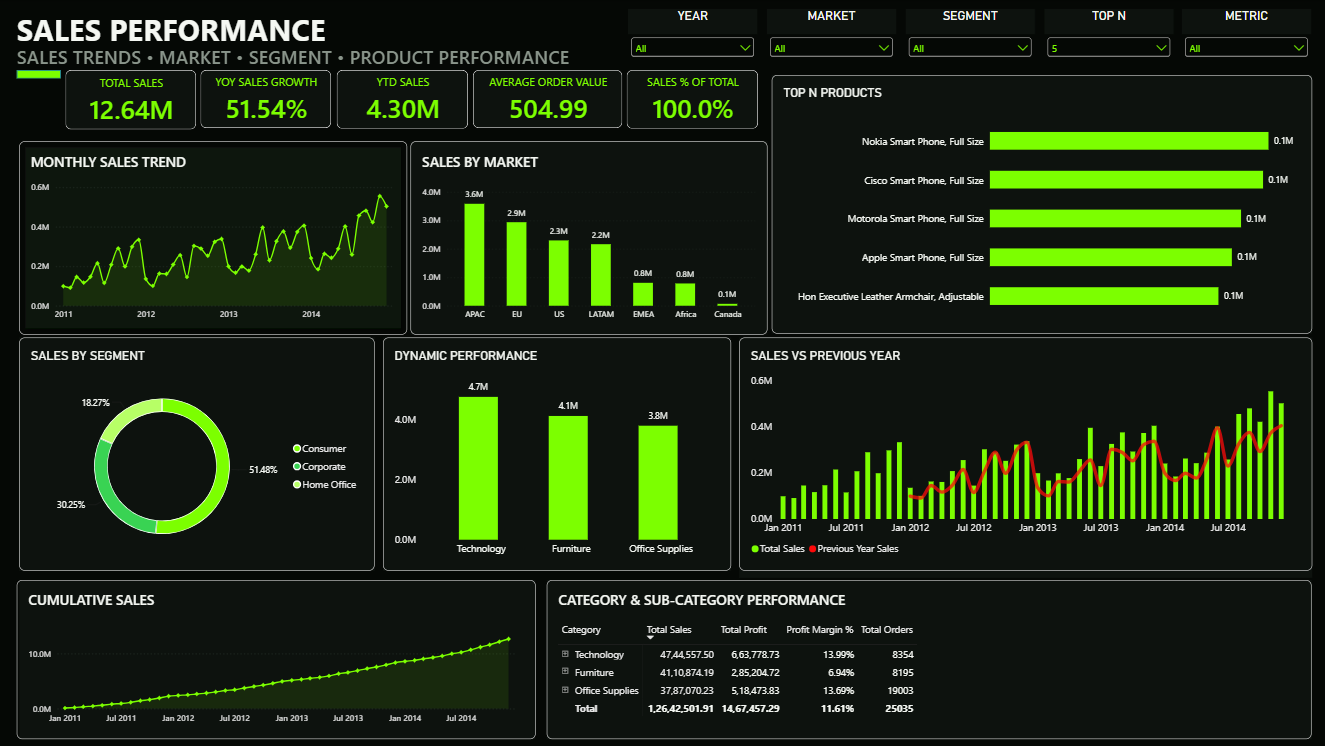

Layout of this report page (visuals, bound fields, positions):
{"tool":"powerbi","page":{"name":"02 Sales Performance","canvas":[1920,1080],"ordinal":1},"visuals":[{"type":"shape","box":[794.5,839.8,1107.4,230.5],"z":0},{"type":"shape","box":[1072.4,487.8,829.5,347.9],"z":1000},{"type":"shape","box":[557.8,487.8,504.3,337.6],"z":2000},{"type":"shape","box":[1119.7,109.1,782.2,374.6],"z":3000},{"type":"textbox","box":[26.8,63.8,1130,49.4],"z":4000},{"type":"shape","box":[26.8,100.9,63.8,12.3],"z":5000},{"type":"slicer","title":"YEAR","fields":{"Values":["DateTable.Year"]},"box":[911.8,12.3,187.3,100.9],"z":6000},{"type":"slicer","title":"MARKET","fields":{"Values":["Orders.Market"]},"box":[1112.5,12.3,187.3,100.9],"z":7000},{"type":"cardVisual","fields":{"Data":["_Measures.Total Sales"]},"box":[97.4,100.9,189.4,86.4],"z":8000},{"type":"cardVisual","fields":{"Data":["_Measures.YoY Sales Growth %"]},"box":[293.7,100.9,189.4,84.4],"z":9000},{"type":"cardVisual","fields":{"Data":["_Measures.YTD Sales"]},"box":[489.9,100.9,190,85],"z":10000},{"type":"cardVisual","fields":{"Data":["_Measures.Sales % of Total"]},"box":[909.8,100.9,190,85],"z":11000},{"type":"shape","box":[596.9,203.8,516.6,279.9],"z":12000},{"type":"clusteredColumnChart","title":"DYNAMIC PERFORMANCE","fields":{"Category":["Orders.Category"],"Y":["_Measures.Dynamic Metric"]},"box":[557.8,487.8,504.3,337.6],"z":13000},{"type":"clusteredColumnChart","title":"SALES BY MARKET","fields":{"Y":["_Measures.Total Sales"],"Category":["Orders.Market"]},"box":[596.9,203.8,516.6,279.9],"z":14000},{"type":"clusteredBarChart","title":"TOP N PRODUCTS","fields":{"Category":["Orders.Product Name"],"Y":["_Measures.Dynamic Top N Sales"]},"box":[1119.7,109.1,782.2,374.6],"z":15000},{"type":"shape","box":[30.9,487.8,514.6,337.6],"z":16000},{"type":"donutChart","title":"SALES BY SEGMENT","fields":{"Category":["Orders.Segment"],"Y":["_Measures.Total Sales"]},"box":[30.9,487.8,514.6,337.6],"z":17000},{"type":"cardVisual","fields":{"Data":["_Measures.Average Order Value"]},"box":[686.8,100.9,216.1,84.4],"z":18000},{"type":"slicer","title":"TOP N","fields":{"Values":["Top N Selection.Top N Selection"]},"box":[1513.9,12.3,187.3,100.9],"z":19000},{"type":"slicer","title":"SEGMENT","fields":{"Values":["Orders.Segment"]},"box":[1313.2,12.3,187.3,100.9],"z":20000},{"type":"lineClusteredColumnComboChart","title":"SALES VS PREVIOUS YEAR","fields":{"Y":["_Measures.Total Sales"],"Category":["DateTable.Month Start_1"],"Y2":["_Measures.Previous Year Sales"]},"box":[1072.4,487.8,829.5,337.6],"z":21000},{"type":"slicer","title":"METRIC","fields":{"Values":["Metric Selection.Metric"]},"box":[1714.6,12.3,187.3,100.9],"z":22000},{"type":"shape","box":[30.9,203.8,561.9,279.9],"z":23000},{"type":"lineChart","title":"MONTHLY SALES TREND","fields":{"Y":["_Measures.Total Sales"],"Category":["DateTable.Month Start_1"]},"box":[30.9,203.8,561.9,279.9],"z":24000},{"type":"pivotTable","title":"CATEGORY & SUB-CATEGORY PERFORMANCE","fields":{"Values":["_Measures.Total Sales","_Measures.Total Profit","_Measures.Profit Margin %","_Measures.Total Orders"],"Rows":["Orders.Category","Orders.Sub-Category"]},"box":[794.5,839.8,1107.4,230.5],"z":25000},{"type":"shape","box":[30.9,839.8,747.2,230.5],"z":26000},{"type":"lineChart","title":"CUMULATIVE SALES","fields":{"Category":["DateTable.Month Start_1"],"Y":["_Measures.Running Total Sales"]},"box":[26.8,839.8,751.3,230.5],"z":27000},{"type":"textbox","box":[27.1,12.5,829.2,87.5],"z":28000}]}

Visuals, with their boxes in screenshot pixels (x1, y1, x2, y2), scaled from the page's 1920x1080 canvas onto the 1325x746 screenshot:
shape: x1=548 y1=580 x2=1313 y2=739
shape: x1=740 y1=337 x2=1313 y2=577
shape: x1=385 y1=337 x2=733 y2=570
shape: x1=773 y1=75 x2=1313 y2=334
textbox: x1=18 y1=44 x2=798 y2=78
shape: x1=18 y1=70 x2=63 y2=78
"YEAR" slicer: x1=629 y1=8 x2=758 y2=78
"MARKET" slicer: x1=768 y1=8 x2=897 y2=78
cardVisual - _Measures.Total Sales: x1=67 y1=70 x2=198 y2=129
cardVisual - _Measures.YoY Sales Growth %: x1=203 y1=70 x2=333 y2=128
cardVisual - _Measures.YTD Sales: x1=338 y1=70 x2=469 y2=128
cardVisual - _Measures.Sales % of Total: x1=628 y1=70 x2=759 y2=128
shape: x1=412 y1=141 x2=768 y2=334
"DYNAMIC PERFORMANCE" clusteredColumnChart: x1=385 y1=337 x2=733 y2=570
"SALES BY MARKET" clusteredColumnChart: x1=412 y1=141 x2=768 y2=334
"TOP N PRODUCTS" clusteredBarChart: x1=773 y1=75 x2=1313 y2=334
shape: x1=21 y1=337 x2=376 y2=570
"SALES BY SEGMENT" donutChart: x1=21 y1=337 x2=376 y2=570
cardVisual - _Measures.Average Order Value: x1=474 y1=70 x2=623 y2=128
"TOP N" slicer: x1=1045 y1=8 x2=1174 y2=78
"SEGMENT" slicer: x1=906 y1=8 x2=1036 y2=78
"SALES VS PREVIOUS YEAR" lineClusteredColumnComboChart: x1=740 y1=337 x2=1313 y2=570
"METRIC" slicer: x1=1183 y1=8 x2=1313 y2=78
shape: x1=21 y1=141 x2=409 y2=334
"MONTHLY SALES TREND" lineChart: x1=21 y1=141 x2=409 y2=334
"CATEGORY & SUB-CATEGORY PERFORMANCE" pivotTable: x1=548 y1=580 x2=1313 y2=739
shape: x1=21 y1=580 x2=537 y2=739
"CUMULATIVE SALES" lineChart: x1=18 y1=580 x2=537 y2=739
textbox: x1=19 y1=9 x2=591 y2=69
